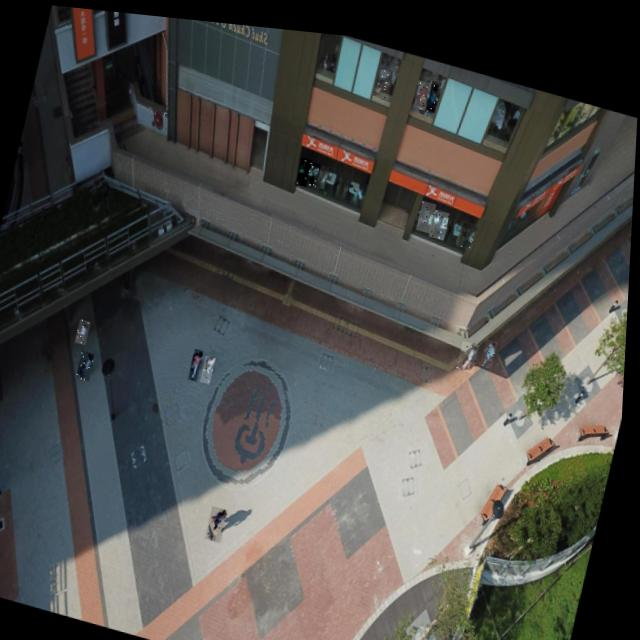Person: (209, 500, 233, 538), (459, 329, 483, 363), (417, 190, 438, 224), (430, 199, 451, 230), (457, 209, 478, 240), (374, 60, 394, 92), (79, 348, 98, 379), (413, 70, 432, 101), (483, 327, 501, 358), (191, 343, 207, 377), (296, 150, 313, 180), (426, 71, 441, 105), (202, 351, 218, 381), (78, 316, 94, 343), (318, 157, 331, 182), (309, 155, 322, 180)
